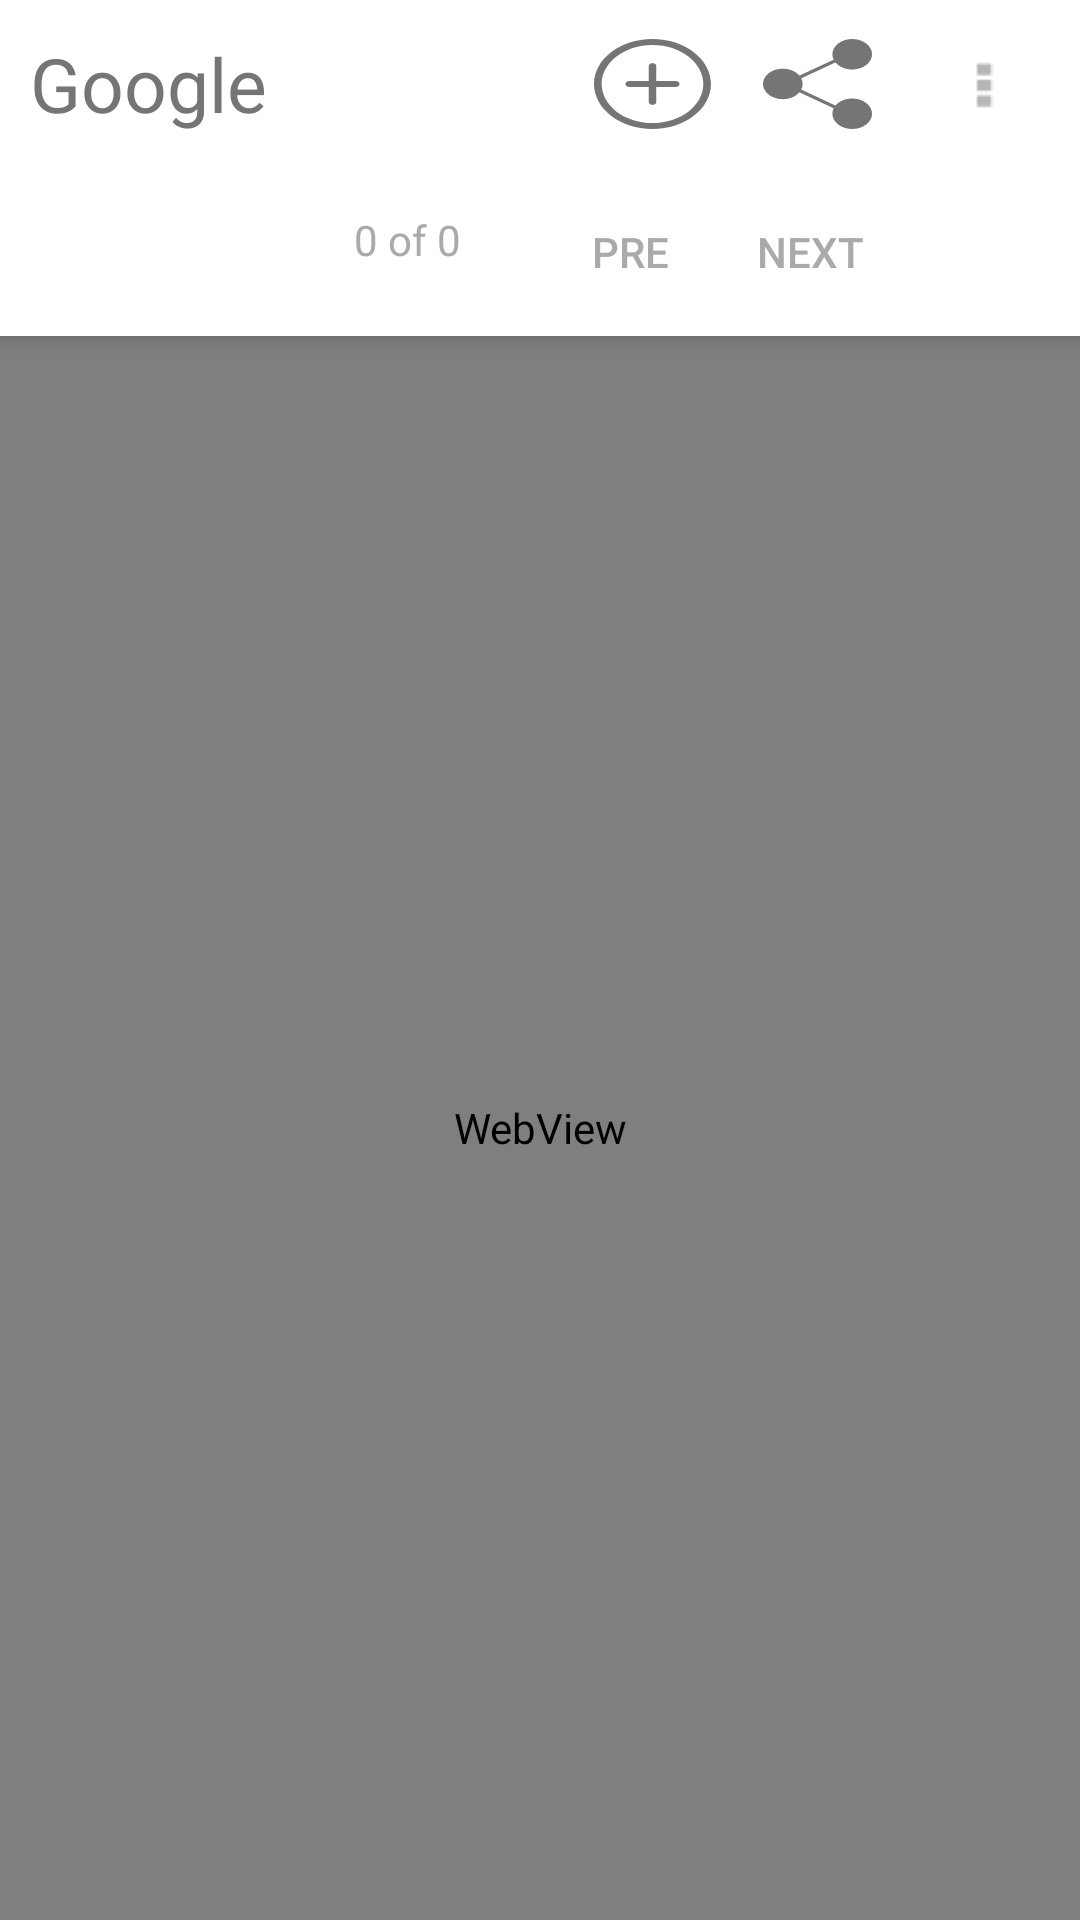

Icon bounding boxes for this 1080px x 1920px phone screenshot, format bbox=[x1, y1, x2, y2]:
add: bbox=[594, 39, 711, 129]
overflow: bbox=[977, 63, 991, 107]
share: bbox=[763, 39, 872, 129]
